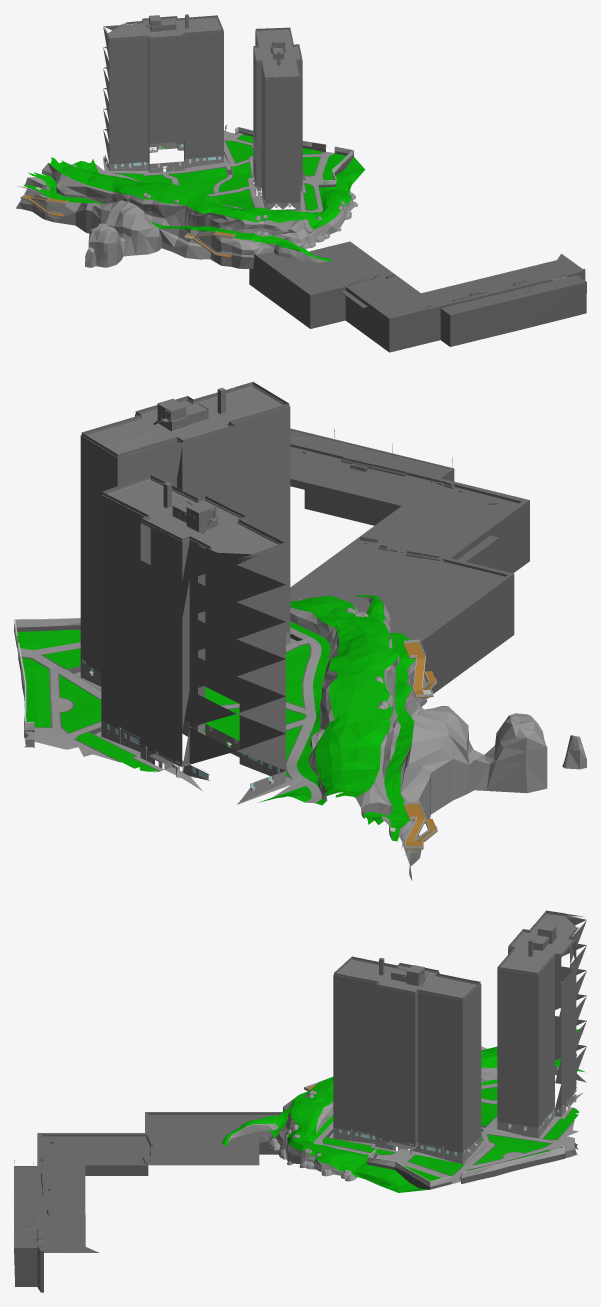
The model's file is bronx_w_5.FBX.
The picture shows the model from 3 angles, top to bottom: view 1: azimuth 30°, elevation 25°; view 2: azimuth 150°, elevation 25°; view 3: azimuth 270°, elevation 25°; orthographic projection. The views are drawn at different scales.
Visible parts, largest first — view 1: unnamed, null; view 2: unnamed, null; view 3: unnamed, null.
Part boxes in pixels (x1=…): unnamed: x1=15, y1=14, x2=365, y2=267; null: x1=231, y1=217, x2=586, y2=352; unnamed: x1=14, y1=381, x2=586, y2=880; null: x1=290, y1=428, x2=529, y2=698; unnamed: x1=291, y1=910, x2=586, y2=1192; null: x1=14, y1=1096, x2=299, y2=1292.
Size of the model in its own units: 230 by 114 by 254.
